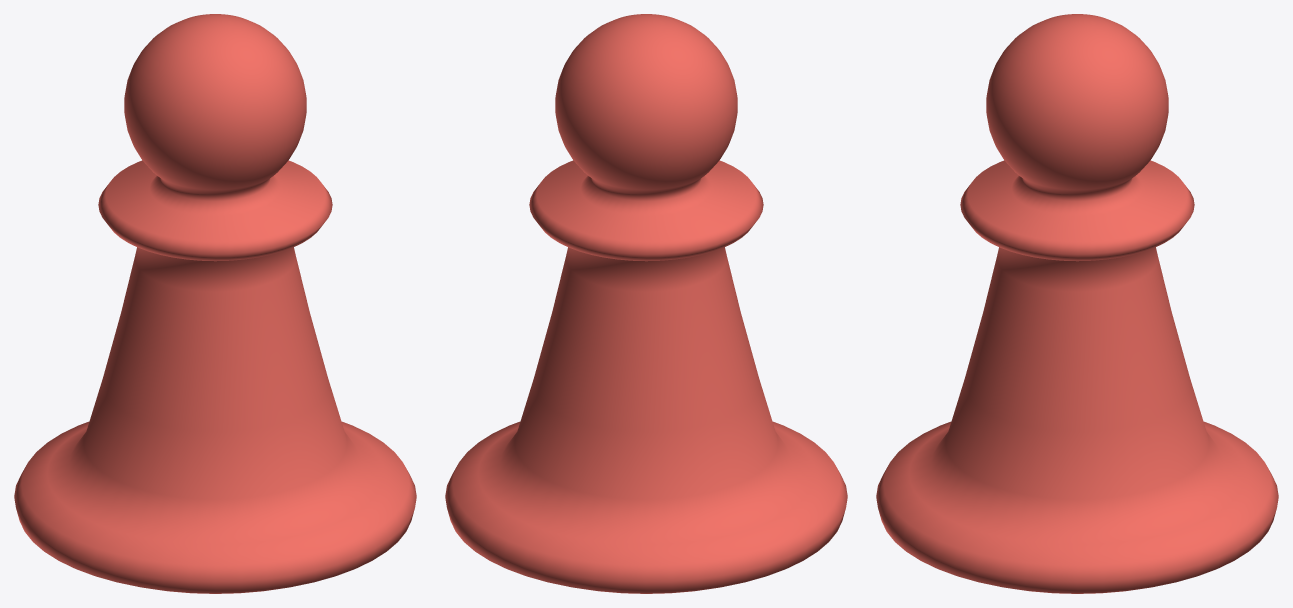
Rendered from figurka.glb.
3 renders of one model, left to right at view 1: azimuth 30°, elevation 25°; view 2: azimuth 150°, elevation 25°; view 3: azimuth 270°, elevation 25°, orthographic.
Parts seen in each view (by area): view 1: Figurka; view 2: Figurka; view 3: Figurka.
Part boxes in pixels (left/top/right/bottom): Figurka: left=14, top=14, right=416, bottom=593; Figurka: left=445, top=14, right=847, bottom=593; Figurka: left=876, top=14, right=1278, bottom=593.
Size of the model in its own units: 1.1 by 1.49 by 1.1.
